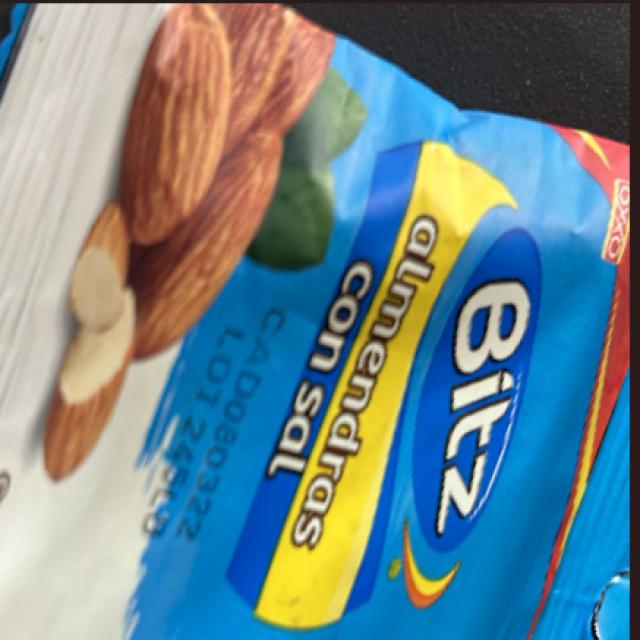bitzAlmendras: (30, 44, 614, 636)
